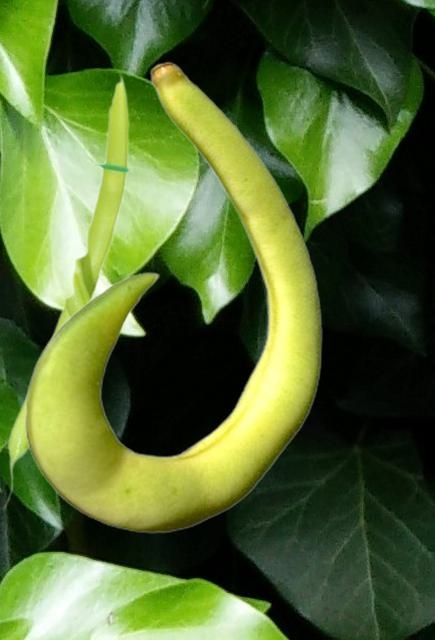french_bean: (24, 61, 322, 532), (2, 71, 133, 510)
